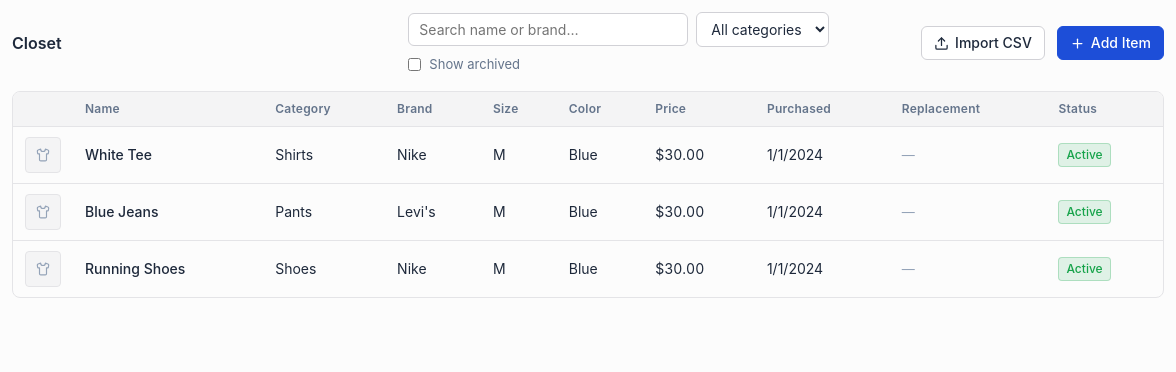
Test case: ClosetView › shows archived items when toggle is checked
Click the checkbox labelled "Show archived": [415, 65] box [408, 58, 421, 71]
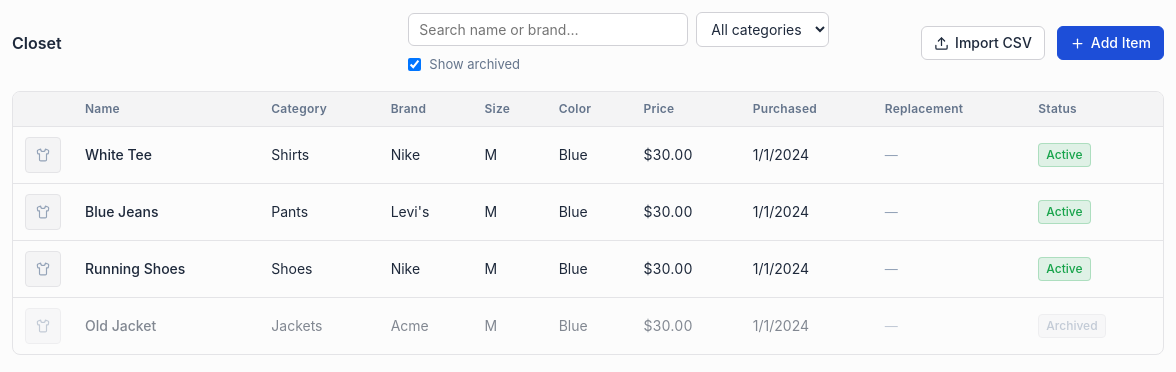
Result: the text "Old Jacket" is shown at [73, 297, 259, 354]
